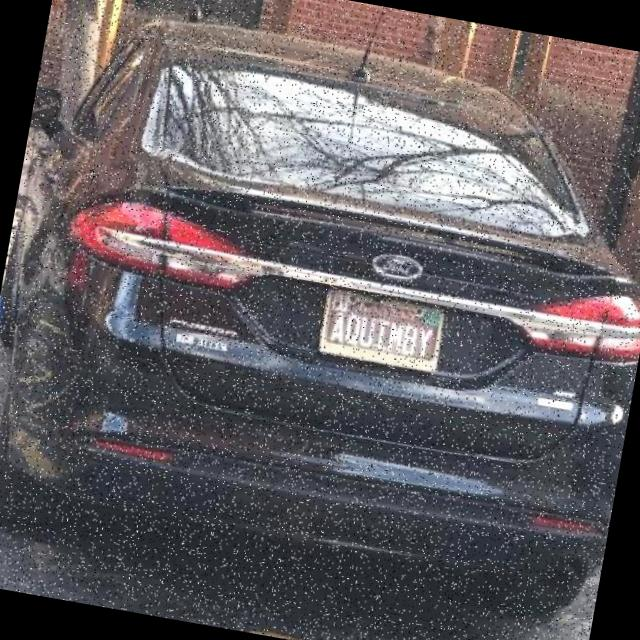LicensePlate: (317, 286, 446, 374)
